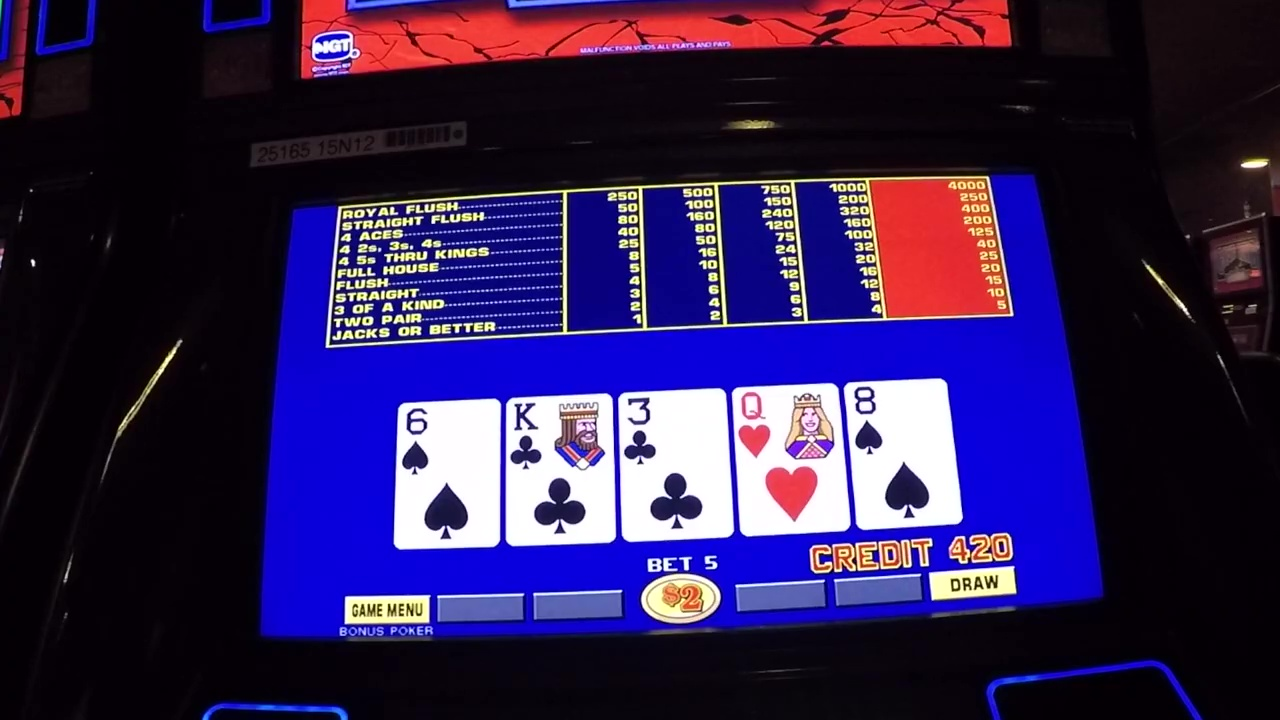C3: (620, 394, 729, 470)
CK: (504, 397, 611, 475)
HQ: (734, 389, 839, 467)
S6: (400, 402, 499, 478)
S8: (850, 383, 953, 460)
